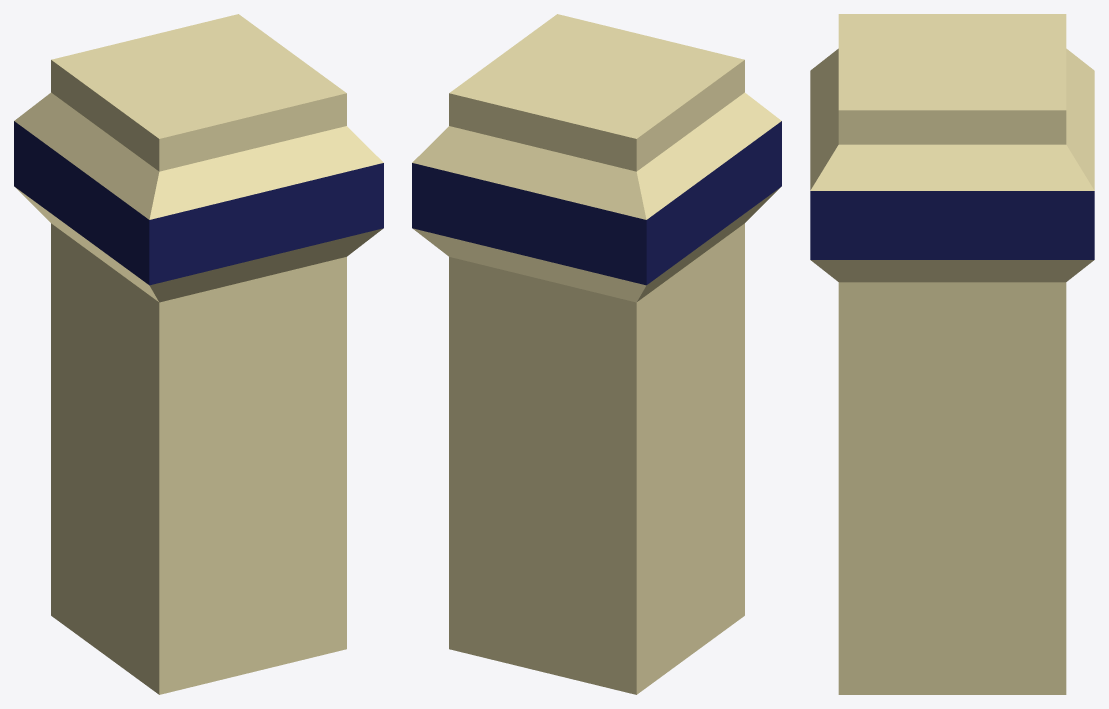
The picture shows the model from 3 angles, left to right: view 1: azimuth 30°, elevation 25°; view 2: azimuth 150°, elevation 25°; view 3: azimuth 270°, elevation 25°; orthographic projection. The views are drawn at different scales.
Visible parts, largest first — view 1: obj1; view 2: obj1; view 3: obj1.
Part boxes in pixels (bbox=[...]): obj1: bbox=[14, 14, 383, 694]; obj1: bbox=[412, 14, 781, 694]; obj1: bbox=[810, 14, 1094, 694].
Bounding box in the file's own units: 37.5 × 85 × 37.5.
Materials: 2 (2 with a texture image).
